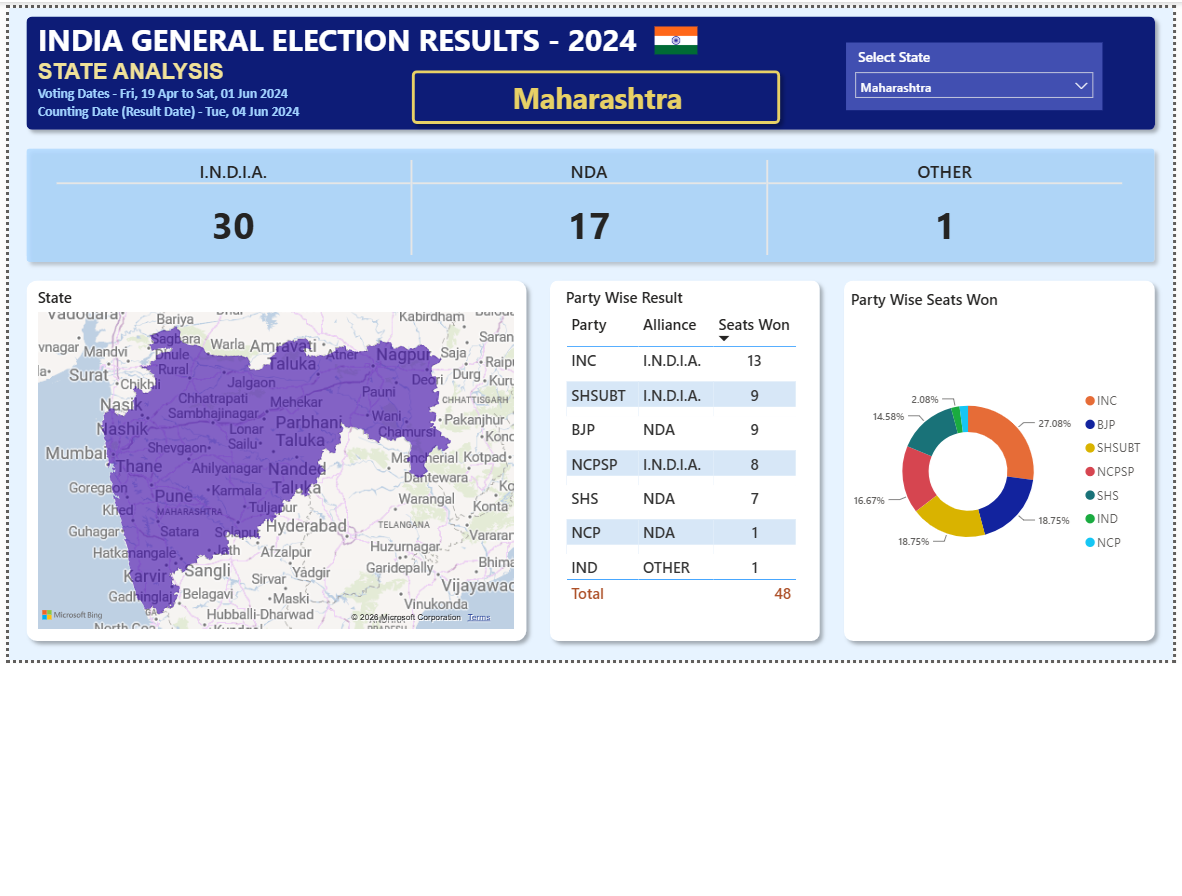

The dashboard page shown, as its layout file describes it:
{"tool":"powerbi","page":{"name":"State Analysis","canvas":[1250,700],"ordinal":3},"visuals":[{"type":"shape","box":[9.3,0,1229.8,139.8],"z":0},{"type":"textbox","box":[25.3,5.9,684.8,121.3],"z":1000},{"type":"image","box":[684,14.3,63.2,40.4],"z":2000},{"type":"slicer","fields":{"Values":["states.State"]},"box":[899,36.7,275.2,72.4],"z":3000},{"type":"shape","box":[9.3,283.2,554.9,405.1],"z":4000},{"type":"shape","box":[9.2,141.7,1229.2,140],"z":5000},{"type":"shape","box":[572.3,283.2,307.6,405.1],"z":6000},{"type":"filledMap","title":"State","fields":{"Category":["states.State"]},"box":[25.5,299.5,521.2,371.5],"z":7000},{"type":"tableEx","title":"Party Wise Result","fields":{"Values":["partywise_results.Party_Short","constituencywise_results.All Winning_Alliance","constituencywise_results.Party ID"]},"box":[593.2,299.5,265.8,371.5],"z":8000},{"type":"shape","box":[886.9,283.2,351.7,405.1],"z":9000},{"type":"cardVisual","fields":{"Data":["CountNonNull(constituencywise_results.Party ID)"],"Rows":["constituencywise_results.All Winning_Alliance"]},"box":[25.5,158,1194.5,112.1],"z":10000},{"type":"donutChart","title":"Party Wise Seats Won","fields":{"Category":["constituencywise_results.Party Short Name Constituency Level Srt"],"Y":["CountNonNull(constituencywise_results.Party ID)"]},"box":[898.6,301.9,330.3,370.6],"z":11000},{"type":"shape","box":[423.7,58,413.3,75.5],"z":12000},{"type":"card","fields":{"Values":["Min(states.State)"]},"box":[437.6,72,386.6,48.8],"z":13000}]}

Visuals, with their boxes on the page's 1250x700 design canvas (x1, y1, x2, y2). These are canvas units, not pixel positions in the 1182x896 screenshot, which may show the page scaled, cropped or inside an application window:
shape: bbox=[9, 0, 1239, 140]
textbox: bbox=[25, 6, 710, 127]
image: bbox=[684, 14, 747, 55]
slicer - states.State: bbox=[899, 37, 1174, 109]
shape: bbox=[9, 283, 564, 688]
shape: bbox=[9, 142, 1238, 282]
shape: bbox=[572, 283, 880, 688]
"State" filledMap: bbox=[26, 300, 547, 671]
"Party Wise Result" tableEx: bbox=[593, 300, 859, 671]
shape: bbox=[887, 283, 1239, 688]
cardVisual - CountNonNull(constituencywise_results.Party ID) x constituencywise_results.All Winning_Alliance: bbox=[26, 158, 1220, 270]
"Party Wise Seats Won" donutChart: bbox=[899, 302, 1229, 672]
shape: bbox=[424, 58, 837, 134]
card - Min(states.State): bbox=[438, 72, 824, 121]
